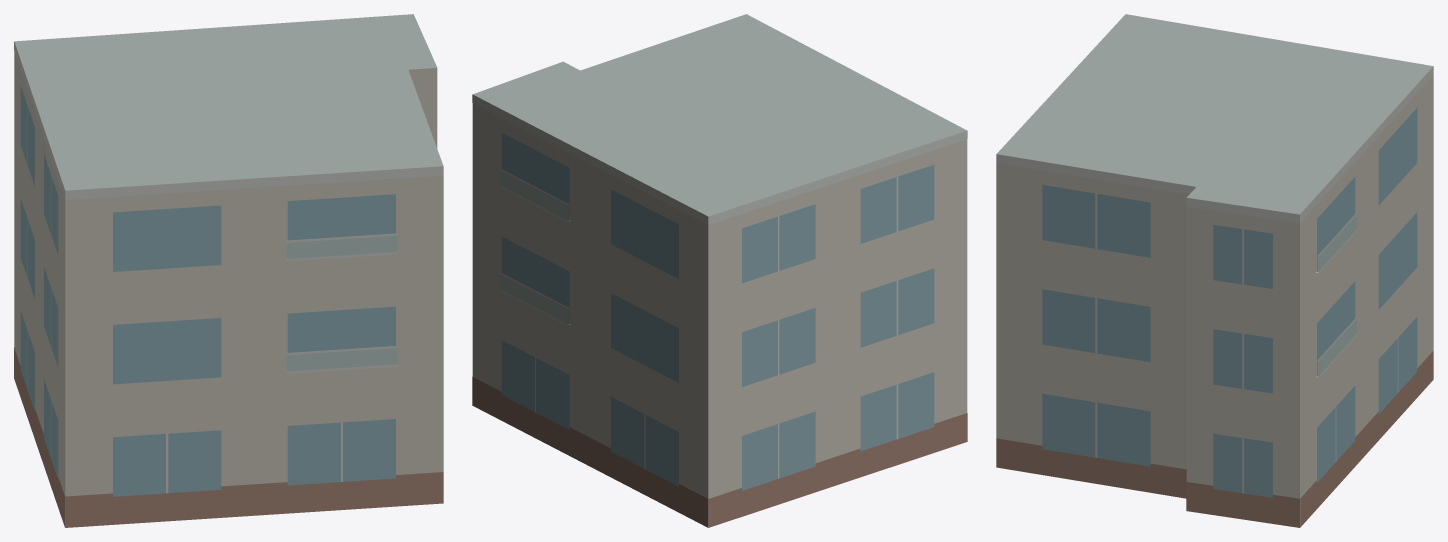
Rendered from survey-upis-32970016.glb.
The picture shows the model from 3 angles, left to right: view 1: azimuth 30°, elevation 25°; view 2: azimuth 150°, elevation 25°; view 3: azimuth 270°, elevation 25°; orthographic projection. The views are drawn at different scales.
Parts seen in each view (by area): view 1: survey-upis-32970016.tmp; view 2: survey-upis-32970016.tmp; view 3: survey-upis-32970016.tmp.
Boxes of the visible parts, box(x1,y1,x2,y2) form: survey-upis-32970016.tmp: box(14, 14, 443, 527); survey-upis-32970016.tmp: box(472, 14, 967, 527); survey-upis-32970016.tmp: box(996, 14, 1433, 527).
Size of the model in its own units: 12.23 by 8.9 by 11.27.
